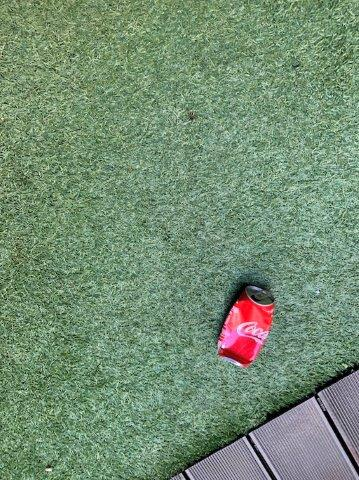kaleng: (219, 287, 273, 367)
